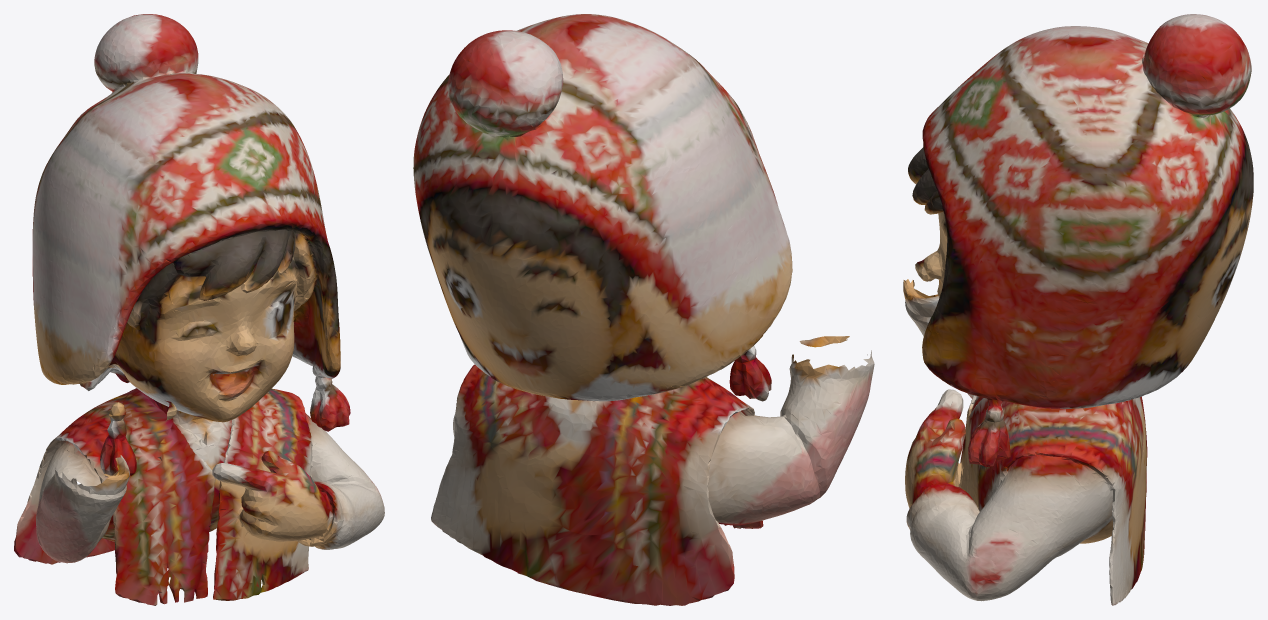
File: chaski.glb
3 views of the same model, side by side, from view 1: azimuth 30°, elevation 25°; view 2: azimuth 150°, elevation 25°; view 3: azimuth 270°, elevation 25° (orthographic). The views are drawn at different scales.
Parts seen in each view (by area): view 1: geometry_0; view 2: geometry_0; view 3: geometry_0.
Boxes of the visible parts, box(x1,y1,x2,y2) form: geometry_0: box(14, 14, 384, 605); geometry_0: box(413, 14, 874, 605); geometry_0: box(903, 14, 1253, 605).
Size of the model in its own units: 1.39 by 1.96 by 1.13.
